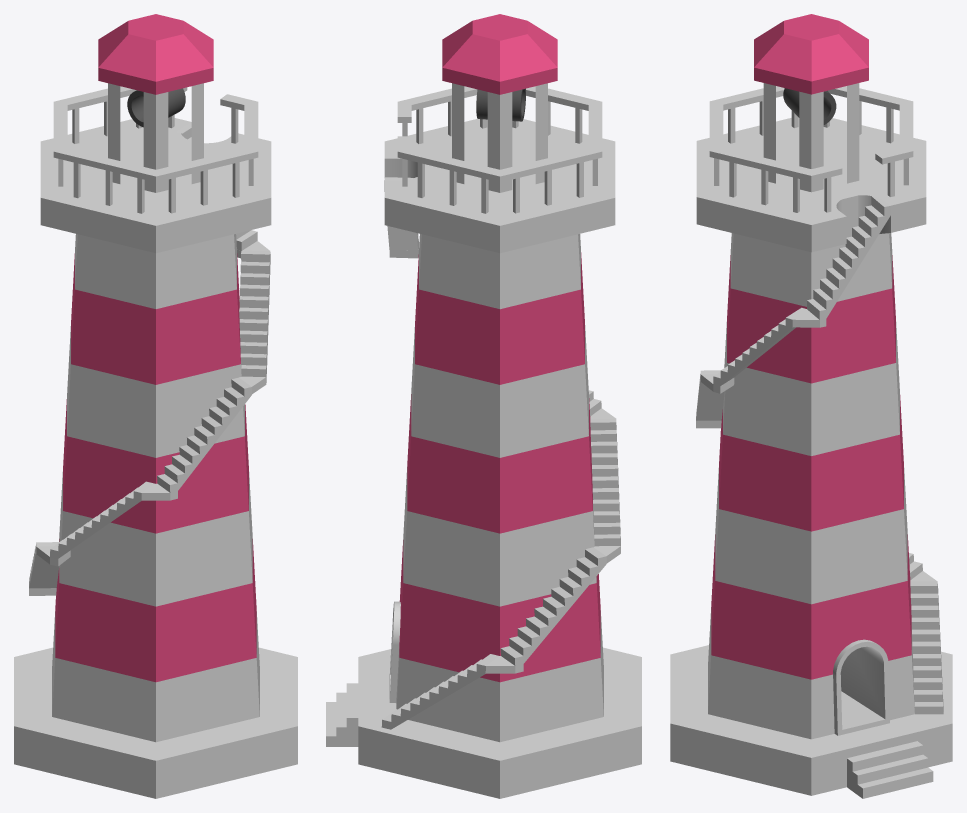
The model's file is lighthouse.fbx.
3 renders of one model, left to right at view 1: azimuth 30°, elevation 25°; view 2: azimuth 150°, elevation 25°; view 3: azimuth 270°, elevation 25°, orthographic.
Visible parts, largest first — view 1: Difference, Group21, Group1, Group30, Group12, Group11, Group6, Group10, Group7, Group5, Group9, Group18 (+1 smaller); view 2: Difference, Group21, Group1, Group30, Group9, Group10, Group4, Group8, Group20, Group5, Group3, Group18 (+1 smaller); view 3: Difference, Group21, Group1, Group30, Group8, Group20, Group22, Group2, Group12, Group3, Group7, Group11 (+1 smaller).
Part boxes in pixels (box(x1,y1,x2,y2)): Difference: box(14, 234, 297, 798); Group21: box(40, 118, 271, 253); Group1: box(98, 14, 213, 94); Group30: box(53, 86, 258, 182); Group12: box(239, 250, 270, 377); Group11: box(157, 377, 252, 492); Group6: box(143, 92, 168, 192); Group10: box(50, 481, 153, 558); Group7: box(191, 83, 203, 183); Group5: box(108, 83, 120, 183); Group9: box(29, 542, 59, 588); Group18: box(127, 88, 185, 127); Difference: box(358, 234, 641, 798); Group21: box(384, 119, 615, 253); Group1: box(442, 14, 557, 94); Group30: box(397, 86, 602, 182); Group9: box(500, 547, 606, 665); Group10: box(590, 418, 620, 546); Group4: box(487, 92, 512, 192); Group8: box(381, 654, 499, 729); Group20: box(326, 683, 358, 746); Group5: box(535, 83, 547, 183); Group3: box(452, 83, 464, 183); Group18: box(476, 88, 525, 121); Difference: box(670, 233, 952, 795); Group21: box(696, 118, 926, 252); Group1: box(754, 14, 868, 94); Group30: box(709, 86, 913, 181); Group8: box(910, 581, 943, 714); Group20: box(847, 741, 933, 798); Group22: box(807, 195, 891, 319); Group2: box(799, 91, 823, 192); Group12: box(713, 307, 807, 386); Group3: box(847, 83, 859, 183); Group7: box(763, 83, 775, 183); Group11: box(696, 370, 724, 420).
Bounding box in the file's own units: 2.55 × 5.89 × 2.16.
